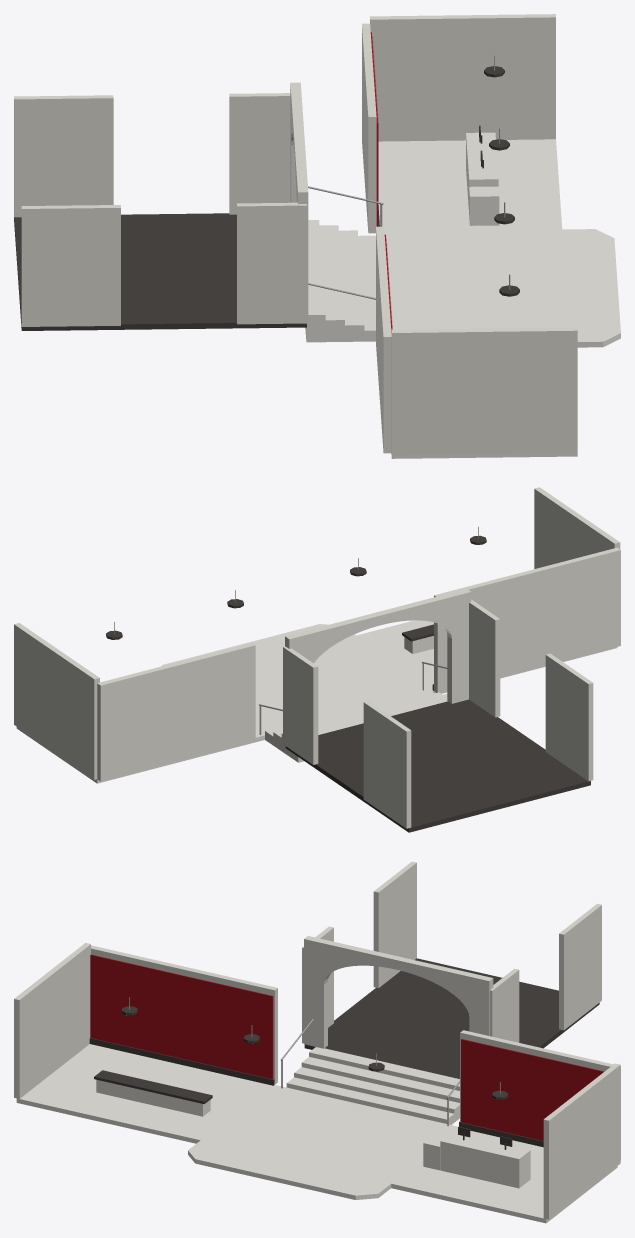
Rendered from old-foyer-interior-31796425ee54.glb.
3 renders of one model, top to bottom at view 1: azimuth 30°, elevation 25°; view 2: azimuth 150°, elevation 25°; view 3: azimuth 270°, elevation 25°, orthographic. The views are drawn at different scales.
Visible parts, largest first — view 1: old-foyer; view 2: old-foyer; view 3: old-foyer.
Part boxes in pixels (<box>): old-foyer: <box>14,14,620,458</box>; old-foyer: <box>14,487,620,832</box>; old-foyer: <box>14,861,620,1223</box>.
Size of the model in its own units: 16.46 by 3.99 by 17.25.
